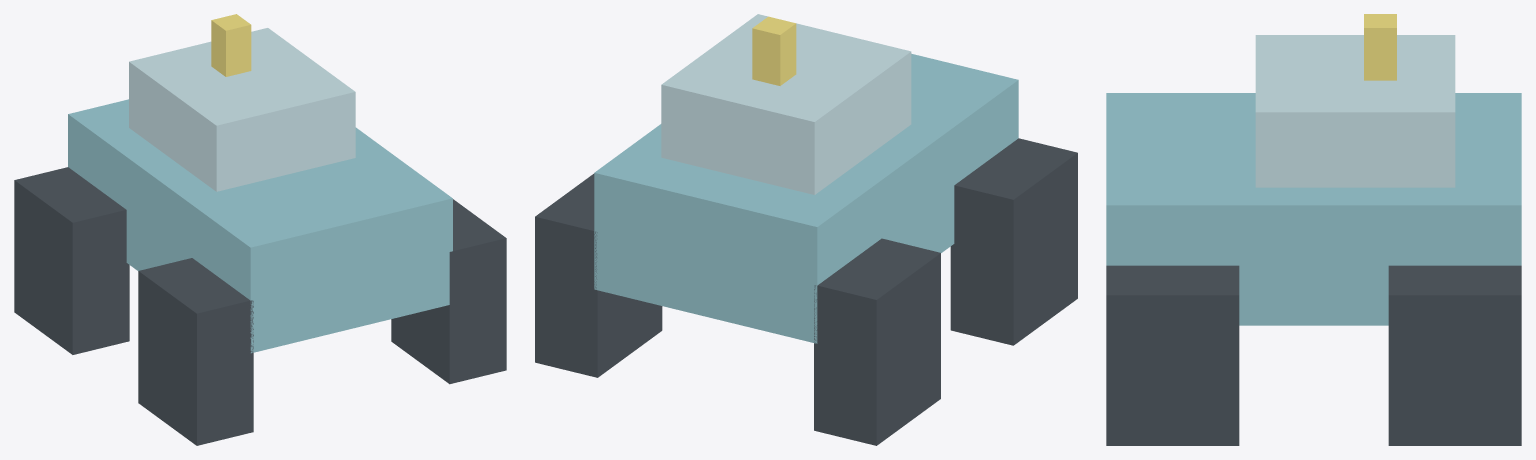
The model's file is robot.glb.
The picture shows the model from 3 angles, left to right: view 1: azimuth 30°, elevation 25°; view 2: azimuth 150°, elevation 25°; view 3: azimuth 270°, elevation 25°; orthographic projection. The views are drawn at different scales.
Bounding box in the file's own units: 2.45 × 2.25 × 2.5.
